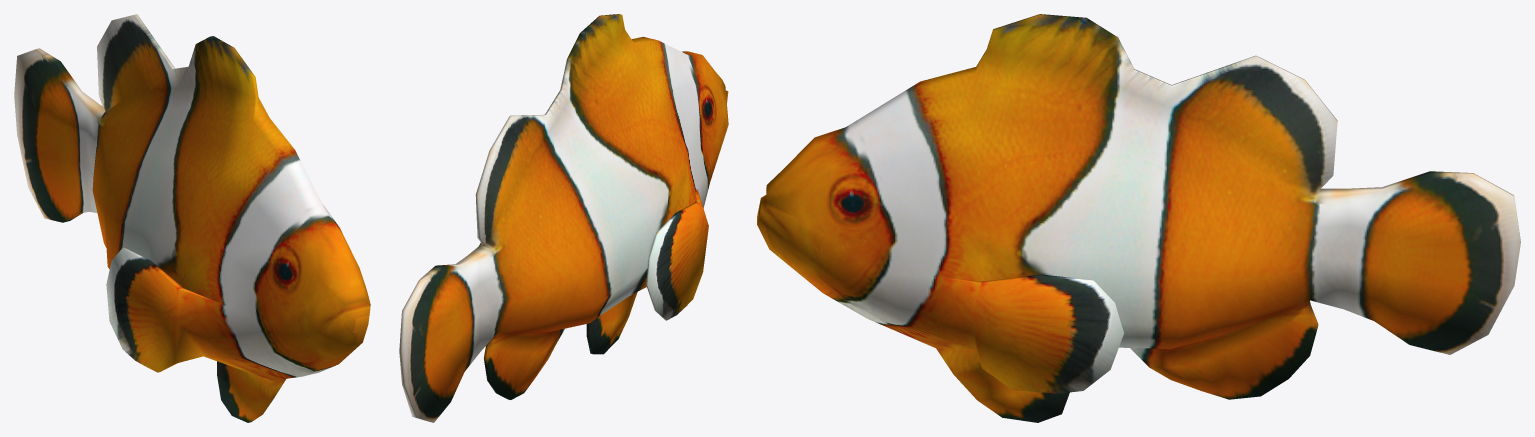
The model's file is TropicalFish10.fbx.
3 views of the same model, side by side, from view 1: azimuth 30°, elevation 25°; view 2: azimuth 150°, elevation 25°; view 3: azimuth 270°, elevation 25° (orthographic). The views are drawn at different scales.
Visible parts, largest first — view 1: TropicalFish12; view 2: TropicalFish12; view 3: TropicalFish12.
Boxes of the visible parts, box(x1,y1,x2,y2) form: TropicalFish12: box(14, 14, 370, 422); TropicalFish12: box(399, 14, 728, 422); TropicalFish12: box(757, 14, 1520, 422).
Bounding box in the file's own units: 135 × 432 × 254.
